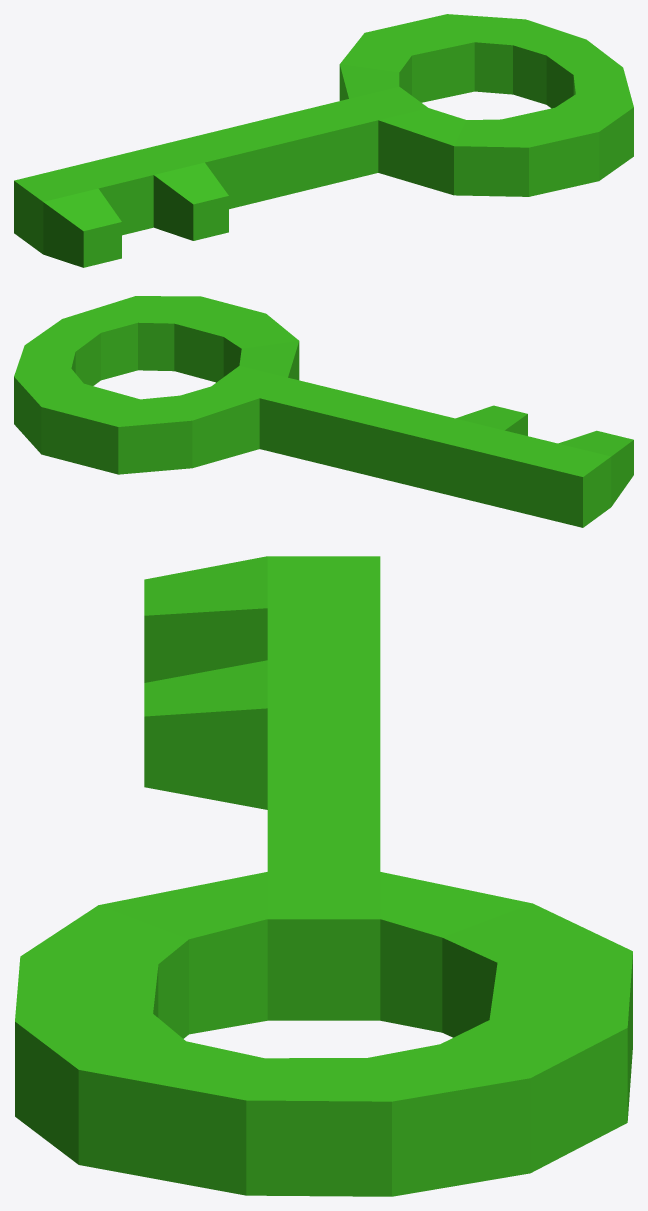
The model's file is kulcs.FBX.
3 views of the same model, one above another, from view 1: azimuth 30°, elevation 25°; view 2: azimuth 150°, elevation 25°; view 3: azimuth 270°, elevation 25° (orthographic). The views are drawn at different scales.
Parts seen in each view (by area): view 1: kulcs; view 2: kulcs; view 3: kulcs.
Boxes of the visible parts, bbox=[...] form: kulcs: bbox=[14, 14, 633, 267]; kulcs: bbox=[14, 296, 633, 527]; kulcs: bbox=[15, 556, 632, 1196].
Bounding box in the file's own units: 191 × 16.72 × 92.18.
